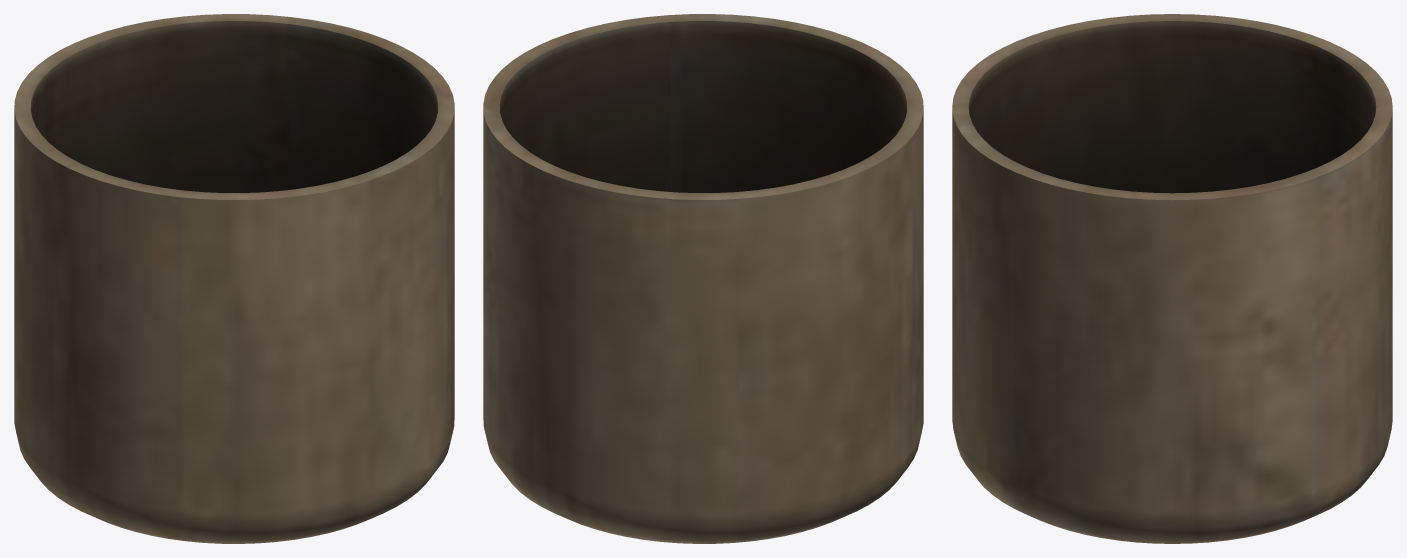
File: SM_wooden_glass.glb
The picture shows the model from 3 angles, left to right: view 1: azimuth 30°, elevation 25°; view 2: azimuth 150°, elevation 25°; view 3: azimuth 270°, elevation 25°; orthographic projection.
Parts seen in each view (by area): view 1: SM_wooden_glass; view 2: SM_wooden_glass; view 3: SM_wooden_glass.
Part boxes in pixels (x1,y1,x2,y2): SM_wooden_glass: (14,14,454,543); SM_wooden_glass: (483,14,923,543); SM_wooden_glass: (952,14,1392,543).
Size of the model in its own units: 0.1337 by 0.1213 by 0.1337.
Materials: 1 (1 with a texture image).
